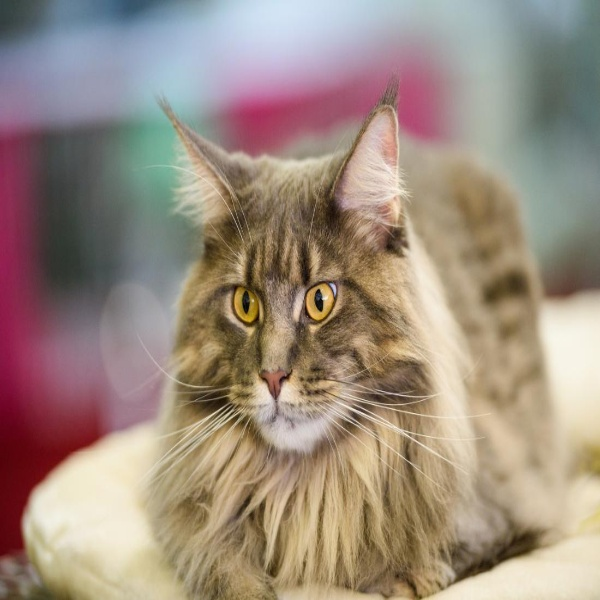cat: (147, 82, 558, 600)
